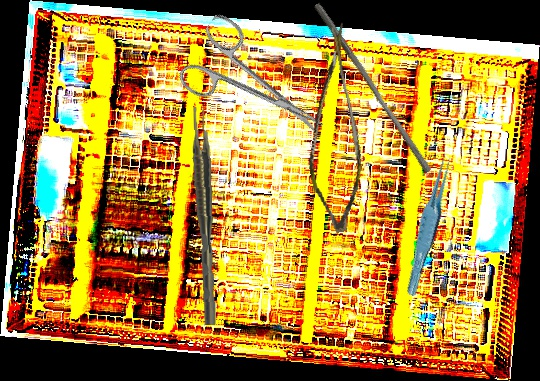Iris Scissors: (171, 11, 342, 165)
Micro Scissor: (280, 21, 386, 236)
Pusher: (306, 1, 439, 175)
Tissue Forceps: (395, 150, 465, 297), (190, 106, 217, 326)
